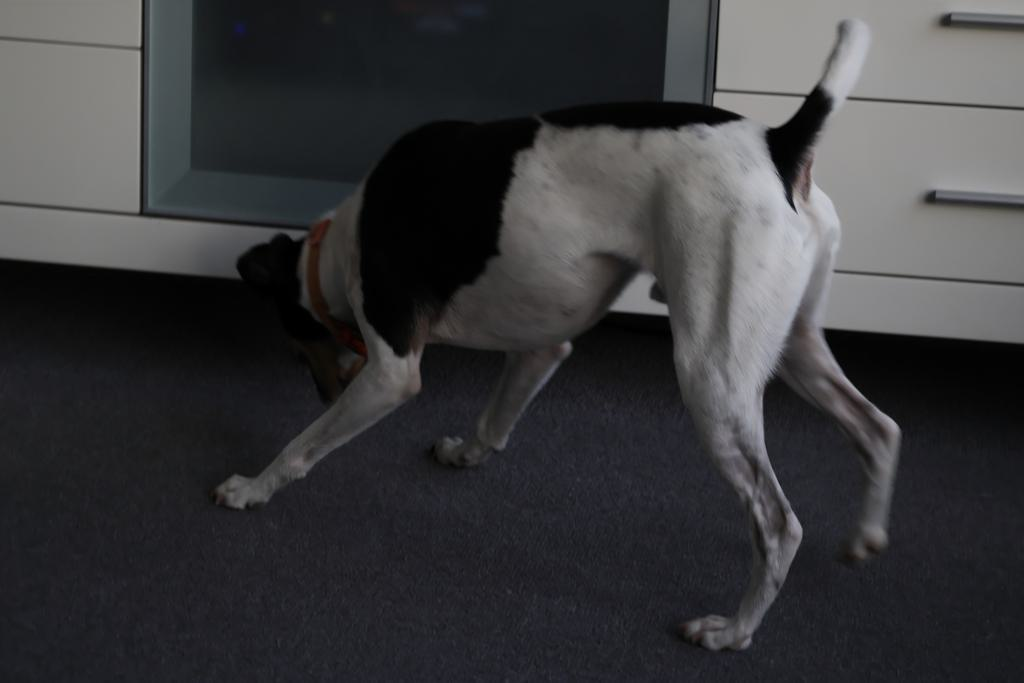Dog: (179, 11, 921, 657)
